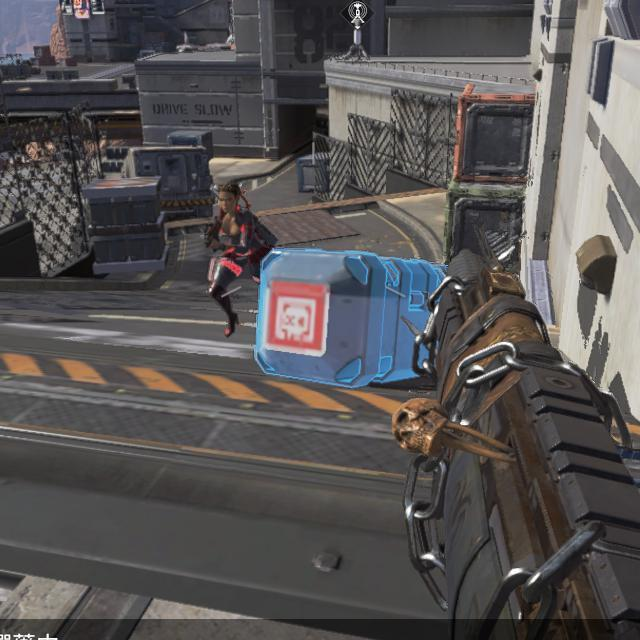avatar: (202, 180, 261, 339)
